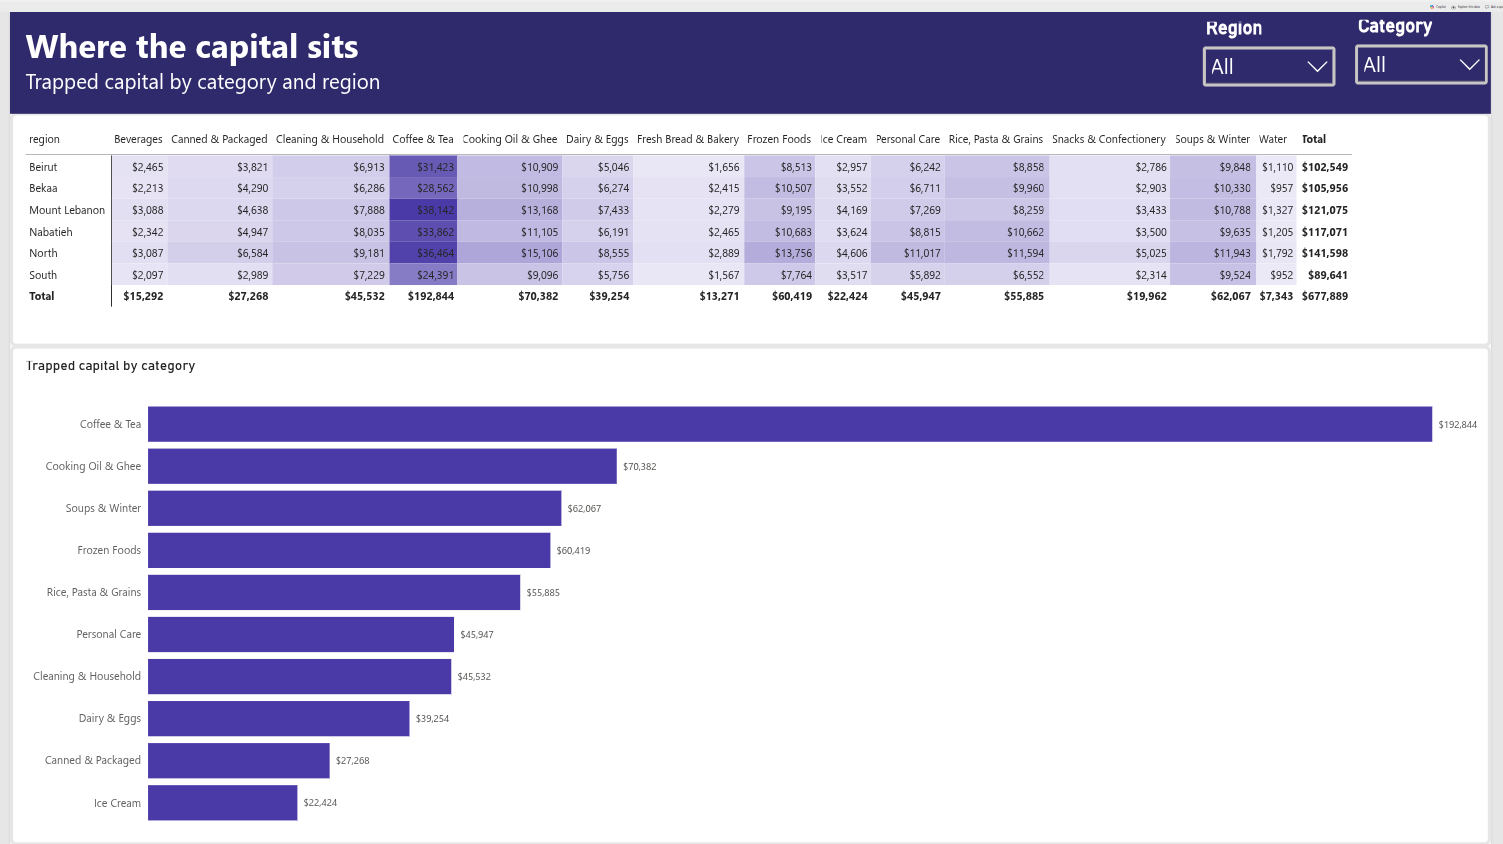

Layout of this report page (visuals, bound fields, positions):
{"tool":"powerbi","page":{"name":"Page 2","canvas":[1920,1080],"ordinal":1},"visuals":[{"type":"pivotTable","fields":{"Columns":["dim_product.category"],"Rows":["dim_store.region"],"Values":["fact_dead_stock.Trapped Capital"]},"box":[0,130,1920,302.5],"z":0},{"type":"textbox","box":[0,0,1920,130],"z":1},{"type":"slicer","fields":{"Values":["dim_store.region"]},"box":[1542.5,12.5,180,107.5],"z":2},{"type":"slicer","fields":{"Values":["dim_product.category"]},"box":[1740,10,180,115],"z":3},{"type":"clusteredBarChart","title":"Trapped capital by category","fields":{"Category":["dim_product.category"],"Y":["fact_dead_stock.Trapped Capital"]},"box":[0,432.5,1920,647.5],"z":4}]}

Visuals, with their boxes in screenshot pixels (x1, y1, x2, y2), scaled from the page's 1920x1080 canvas onto the 1503x844 screenshot:
pivotTable - dim_product.category x dim_store.region: [left=0, top=102, right=1502, bottom=338]
textbox: [left=0, top=0, right=1502, bottom=102]
slicer - dim_store.region: [left=1207, top=10, right=1348, bottom=94]
slicer - dim_product.category: [left=1362, top=8, right=1502, bottom=98]
"Trapped capital by category" clusteredBarChart: [left=0, top=338, right=1502, bottom=843]
